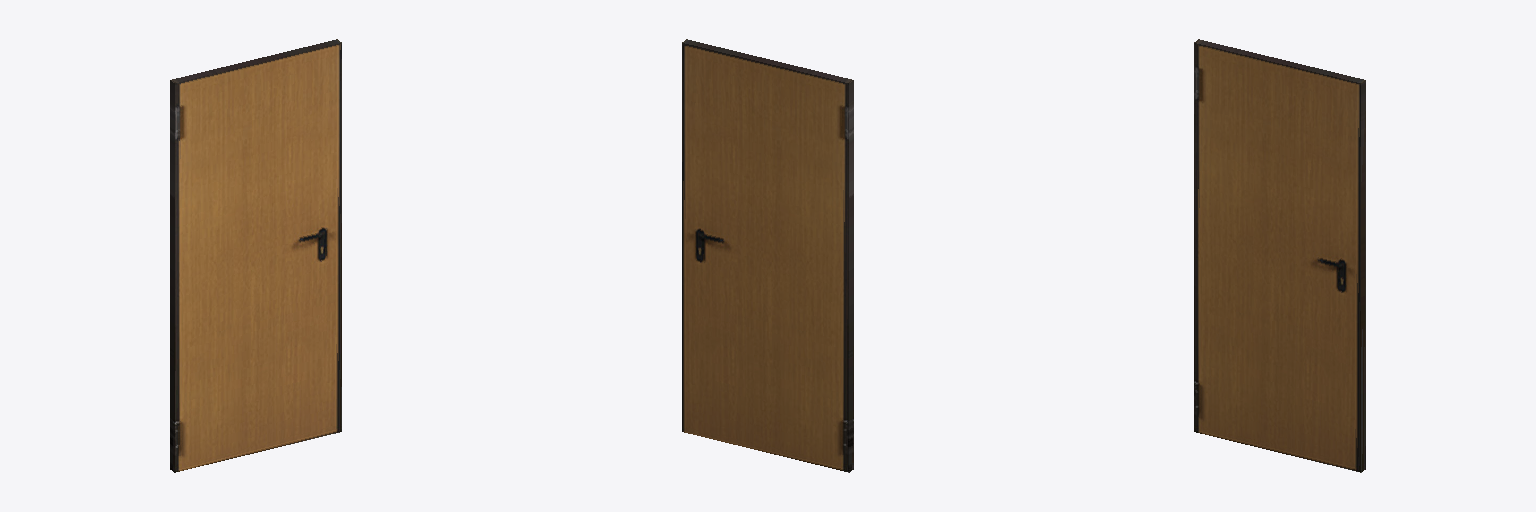
3 renders of one model, left to right at view 1: azimuth 30°, elevation 25°; view 2: azimuth 150°, elevation 25°; view 3: azimuth 330°, elevation 25°, orthographic.
Parts seen in each view (by area): view 1: Cube; view 2: Cube; view 3: Cube.
Boxes of the visible parts, <box> form: Cube: <box>170,39,341,472</box>; Cube: <box>682,39,853,472</box>; Cube: <box>1194,39,1365,472</box>.
Size of the model in its own units: 1.67 by 3.7 by 0.081.
Materials: 1 (1 with a texture image).